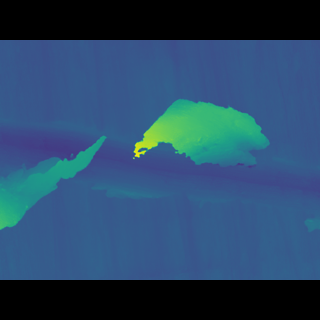Loch: (0, 109, 320, 213), (0, 134, 114, 212), (134, 108, 276, 168)
